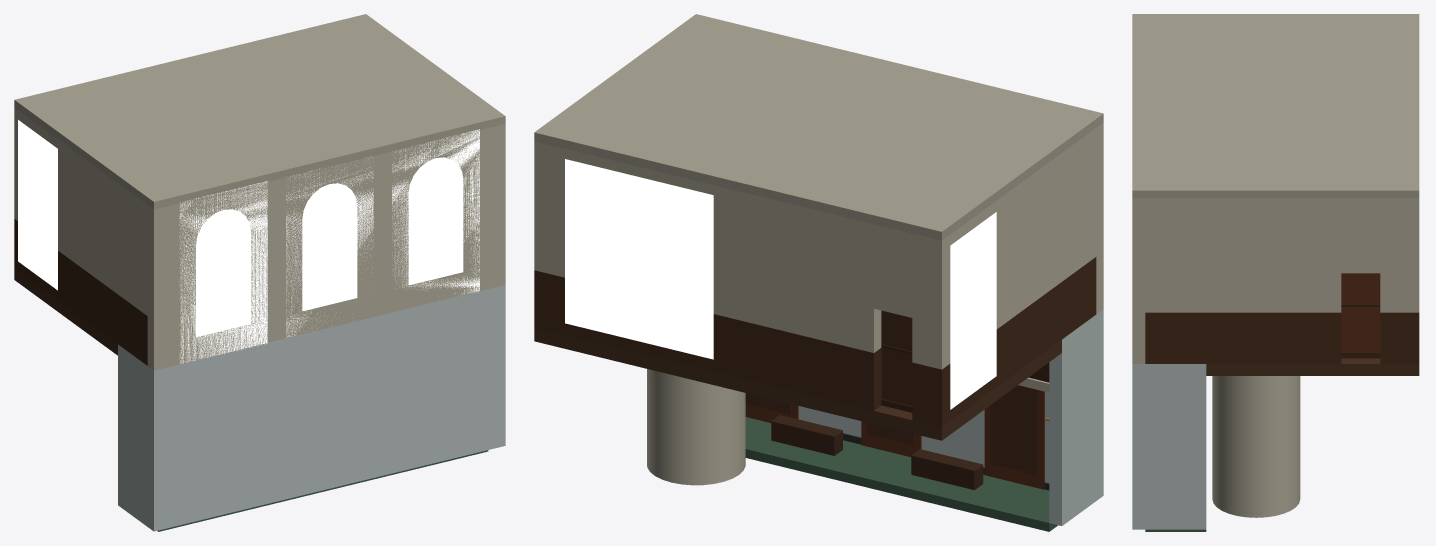
Rendered from room_gallery.glb.
3 renders of one model, left to right at view 1: azimuth 30°, elevation 25°; view 2: azimuth 150°, elevation 25°; view 3: azimuth 270°, elevation 25°, orthographic. The views are drawn at different scales.
Visible parts, largest first — view 1: hall_below, ceiling, wall_s, sky_cards, wall_w, floor, wall_n; view 2: ceiling, wall_n, hall_below, sky_cards, wall_w, stair_in, floor, IA_door_plate, wall_s; view 3: ceiling, wall_e, hall_below, stair_in, IA_door_office, floor, wall_n, wall_s, dressing.
Boxes of the visible parts, x1=… form: hall_below: x1=118, y1=285, x2=505, y2=531; ceiling: x1=14, y1=14, x2=505, y2=209; wall_s: x1=147, y1=124, x2=505, y2=370; sky_cards: x1=18, y1=120, x2=479, y2=363; wall_w: x1=20, y1=112, x2=147, y2=365; floor: x1=14, y1=268, x2=117, y2=355; wall_n: x1=14, y1=107, x2=20, y2=272; ceiling: x1=534, y1=14, x2=1103, y2=240; wall_n: x1=534, y1=141, x2=949, y2=427; hall_below: x1=745, y1=309, x2=1103, y2=531; sky_cards: x1=565, y1=159, x2=996, y2=409; wall_w: x1=949, y1=128, x2=1096, y2=421; stair_in: x1=647, y1=369, x2=745, y2=485; floor: x1=534, y1=328, x2=1061, y2=440; IA_door_plate: x1=882, y1=310, x2=912, y2=406; wall_s: x1=1096, y1=122, x2=1103, y2=313; ceiling: x1=1132, y1=14, x2=1419, y2=198; wall_e: x1=1145, y1=198, x2=1406, y2=363; hall_below: x1=1132, y1=364, x2=1206, y2=531; stair_in: x1=1212, y1=376, x2=1300, y2=517; IA_door_office: x1=1341, y1=273, x2=1380, y2=352; floor: x1=1206, y1=358, x2=1419, y2=375; wall_n: x1=1406, y1=198, x2=1419, y2=363; wall_s: x1=1132, y1=198, x2=1145, y2=363; dressing: x1=1341, y1=304, x2=1380, y2=358.
Bounding box in the file's own units: 9.65 × 8.8 × 6.65.
